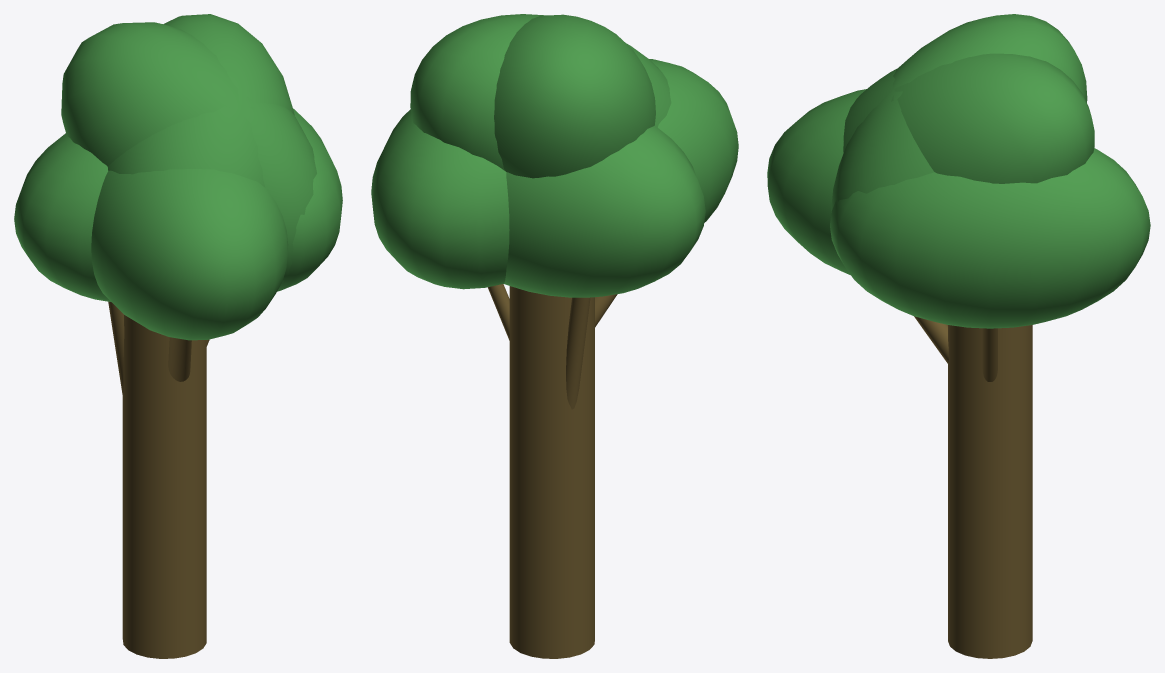
File: Tree_Low_Poly.fbx
3 renders of one model, left to right at view 1: azimuth 30°, elevation 25°; view 2: azimuth 150°, elevation 25°; view 3: azimuth 270°, elevation 25°, orthographic.
Visible parts, largest first — view 1: pSphere3, pCylinder1, pSphere5, pSphere4, pSphere1, pSphere2, pCylinder3, pCylinder4; view 2: pCylinder1, pSphere1, pSphere5, pSphere2, pSphere4, pSphere3, pCylinder4, pCylinder2; view 3: pSphere2, pCylinder1, pSphere4, pSphere5, pSphere3, pCylinder2, pCylinder3.
Part boxes in pixels (bbox=[...]): pSphere3: bbox=[91, 169, 288, 340]; pCylinder1: bbox=[122, 315, 206, 658]; pSphere5: bbox=[61, 22, 316, 282]; pSphere4: bbox=[108, 14, 294, 187]; pSphere1: bbox=[14, 133, 110, 301]; pSphere2: bbox=[277, 108, 342, 291]; pCylinder3: bbox=[168, 337, 191, 381]; pCylinder4: bbox=[108, 301, 124, 396]; pCylinder1: bbox=[509, 286, 594, 658]; pSphere1: bbox=[504, 125, 705, 297]; pSphere5: bbox=[494, 14, 655, 178]; pSphere2: bbox=[371, 109, 509, 289]; pSphere4: bbox=[410, 14, 671, 170]; pSphere3: bbox=[649, 59, 738, 222]; pCylinder4: bbox=[566, 297, 590, 409]; pCylinder2: bbox=[488, 284, 509, 340]; pSphere2: bbox=[830, 148, 1150, 328]; pCylinder1: bbox=[948, 325, 1032, 658]; pSphere4: bbox=[843, 53, 1094, 183]; pSphere5: bbox=[831, 14, 1087, 212]; pSphere3: bbox=[767, 89, 866, 274]; pCylinder2: bbox=[982, 328, 997, 381]; pCylinder3: bbox=[914, 316, 948, 363].
Bounding box in the file's own units: 7.93 × 15.96 × 9.06.
